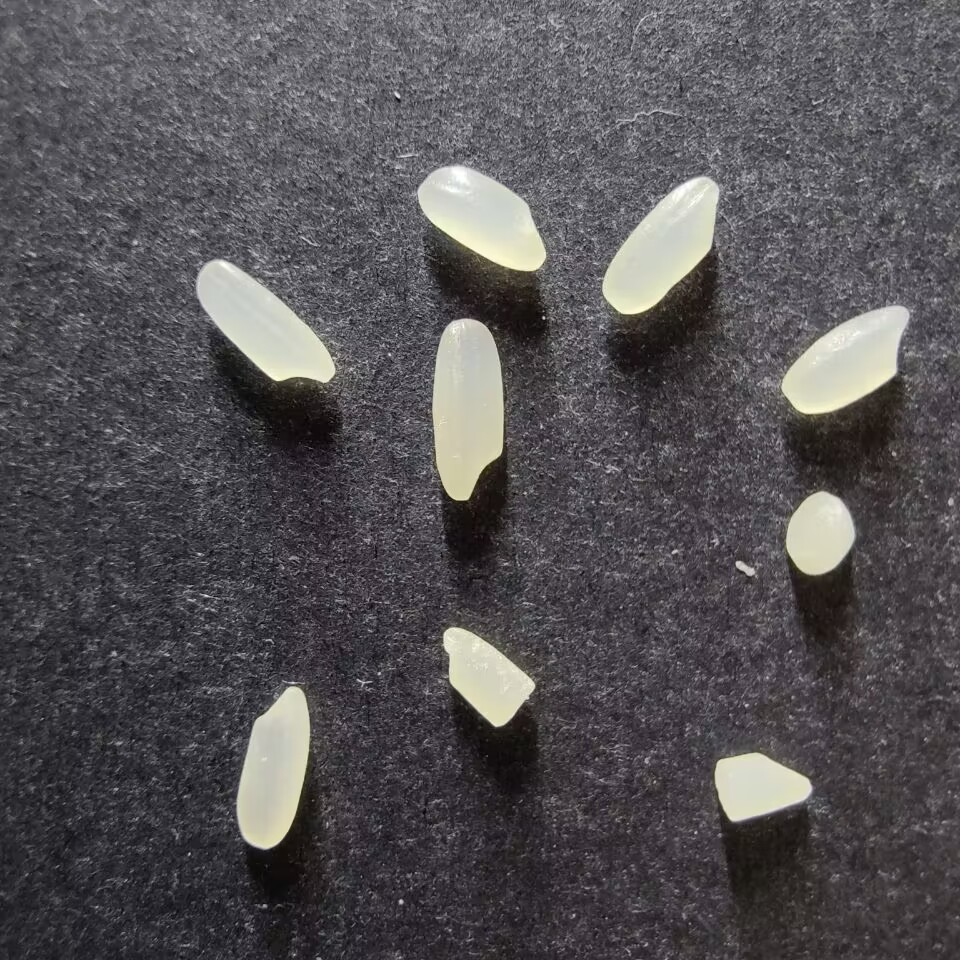broken: (441, 626, 538, 730), (711, 749, 814, 824), (782, 490, 857, 577)
rice: (194, 257, 337, 384), (600, 173, 720, 316), (779, 302, 912, 415), (415, 164, 547, 274), (429, 317, 506, 502), (234, 684, 312, 850)
